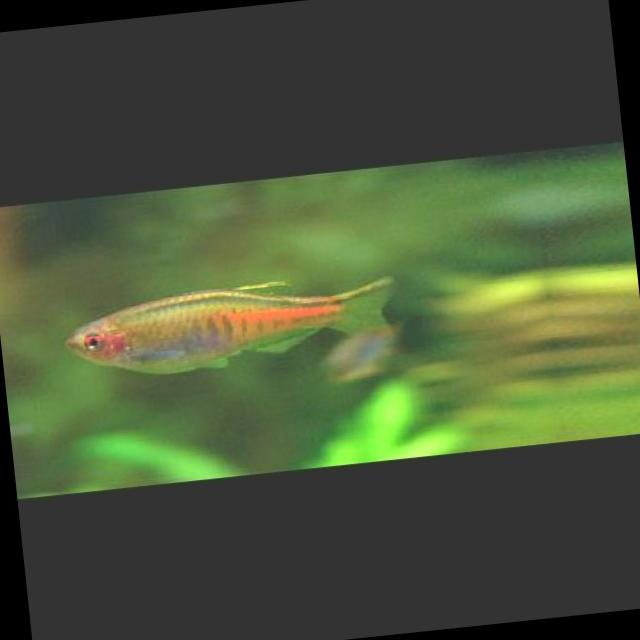ZebraFish: (59, 262, 393, 392)
